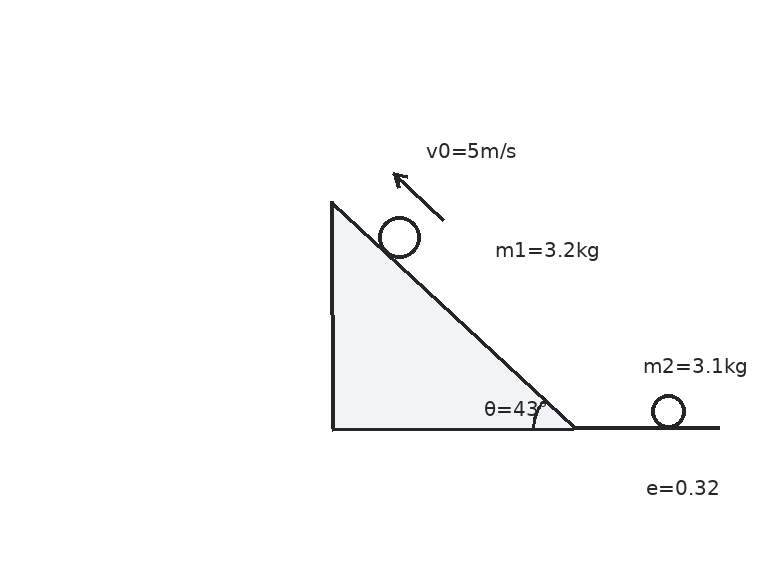ball: (376, 214, 422, 260), (649, 392, 687, 430)
ramp: (330, 201, 575, 430)
